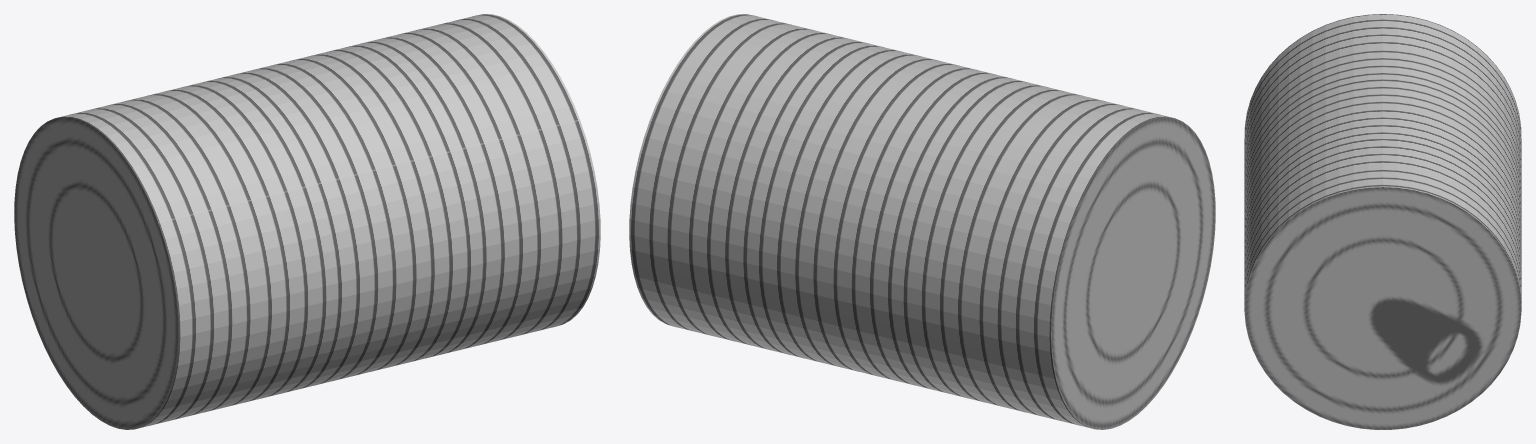
File: Can.fbx
The picture shows the model from 3 angles, left to right: view 1: azimuth 30°, elevation 25°; view 2: azimuth 150°, elevation 25°; view 3: azimuth 270°, elevation 25°; orthographic projection. The views are drawn at different scales.
Visible parts, largest first — view 1: Cylinder.001; view 2: Cylinder.001; view 3: Cylinder.001.
Boxes of the visible parts, box(x1,y1,x2,y2) form: Cylinder.001: box(14, 14, 600, 429); Cylinder.001: box(629, 14, 1215, 429); Cylinder.001: box(1244, 14, 1521, 429).
Bounding box in the file's own units: 71.39 × 46.71 × 48.28.
Materials: 1 (1 with a texture image).
